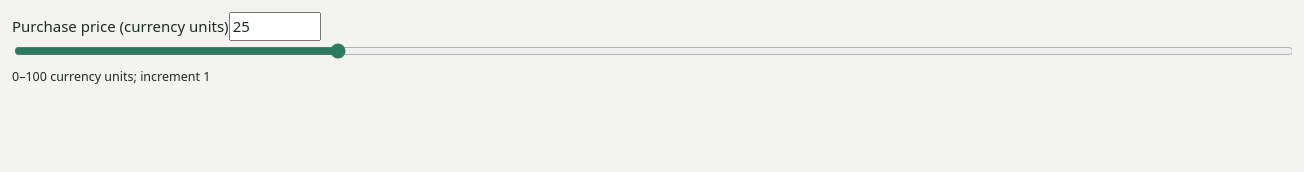
Test: accessible frozen primitives and reference fixture › labels equivalent numeric and slider input with units/limits/errors and rejects invalid entry
This screenshot has width=1304, height=172.
Later steps or results of the test are not shown.
Replace the text in the number field labelled "Purchase price (currency units)" with "101" at (275, 26), box [229,12,321,40]
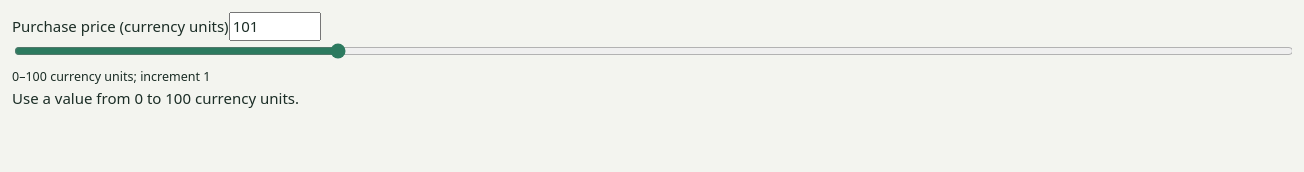
Check: the number field labelled "Purchase price (currency units)" is marked as invalid
Clear the number field labelled "Purchase price (currency units)" at (275, 26), box [229,12,321,40]
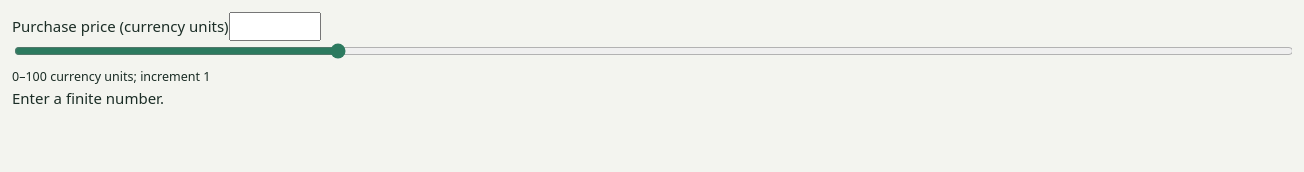
Check: the message shows "finite number", box [12,88,164,108]
